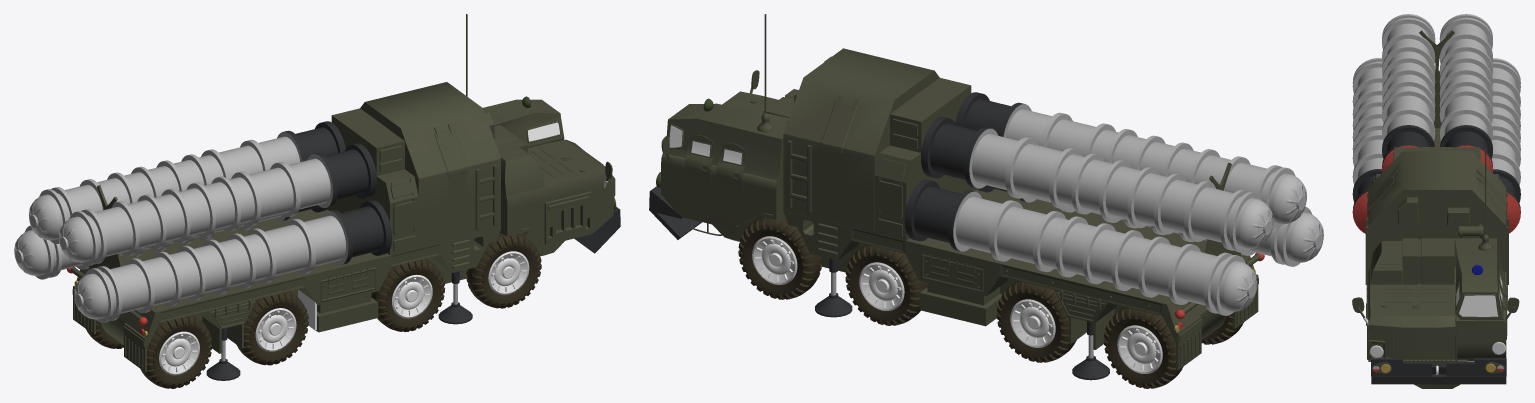
The model's file is rocket_launcher.fbx.
3 views of the same model, side by side, from view 1: azimuth 30°, elevation 25°; view 2: azimuth 150°, elevation 25°; view 3: azimuth 270°, elevation 25° (orthographic). The views are drawn at different scales.
Parts seen in each view (by area): view 1: Box01, Cylinder11, Cylinder20, Object01, Cylinder21, Box06, ChamferCyl08, Cylinder22, ChamferCyl07, ChamferCyl02, ChamferCyl06, Tube04 (+6 smaller); view 2: Box06, Cylinder21, Cylinder22, Object01, Cylinder20, Box01, ChamferCyl12, ChamferCyl11, Cylinder11, ChamferCyl10, ChamferCyl09, Object03 (+10 smaller); view 3: Object01, Cylinder20, Cylinder21, Box06, Box01, Cylinder11, Cylinder22, Object03, Box02, GeoSphere01, GeoSphere02.
Part boxes in pixels (box(x1,y1,x2,y2)): Box01: box(111, 95, 564, 371); Cylinder11: box(74, 200, 392, 322); Cylinder20: box(59, 143, 376, 266); Object01: box(466, 14, 615, 245); Cylinder21: box(29, 121, 345, 243); Box06: box(70, 82, 464, 344); ChamferCyl08: box(466, 233, 541, 308); Cylinder22: box(14, 205, 328, 279); ChamferCyl07: box(371, 258, 445, 331); ChamferCyl02: box(140, 315, 212, 388); ChamferCyl06: box(237, 291, 308, 365); Tube04: box(488, 251, 529, 295); Box06: box(783, 63, 1260, 370); Cylinder21: box(921, 116, 1273, 252); Cylinder22: box(904, 179, 1257, 315); Object01: box(661, 14, 798, 235); Cylinder20: box(955, 92, 1306, 228); Box01: box(712, 48, 1258, 339); ChamferCyl12: box(738, 217, 821, 299); ChamferCyl11: box(845, 244, 927, 325); Cylinder11: box(976, 185, 1323, 266); ChamferCyl10: box(1103, 307, 1183, 388); ChamferCyl09: box(996, 281, 1076, 362); Object03: box(649, 186, 702, 239); Object01: box(1352, 148, 1519, 373); Cylinder20: box(1382, 14, 1435, 172); Cylinder21: box(1439, 14, 1492, 172); Box06: box(1419, 30, 1508, 303); Box01: box(1365, 130, 1467, 388); Cylinder11: box(1352, 58, 1383, 233); Cylinder22: box(1491, 58, 1520, 233); Object03: box(1371, 358, 1506, 384); Box02: box(1459, 295, 1498, 316); GeoSphere01: box(1369, 345, 1383, 358); GeoSphere02: box(1492, 341, 1505, 354).
Size of the model in its own units: 957 by 419 by 269.
